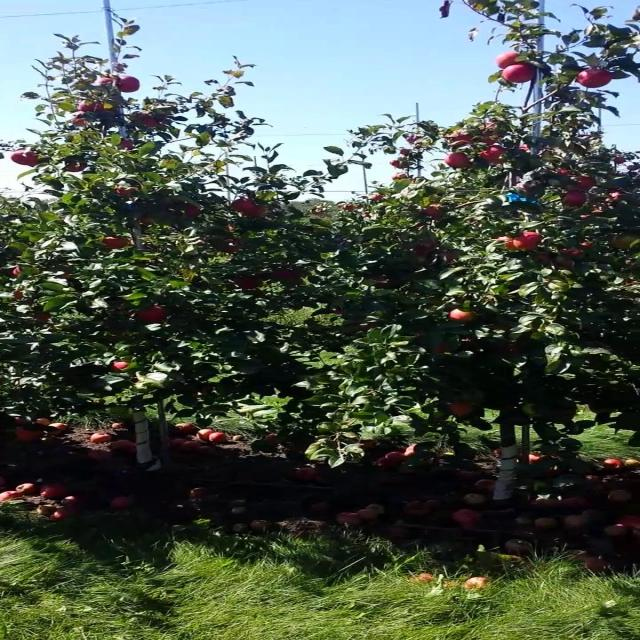apple: (576, 68, 613, 88), (511, 231, 542, 251), (502, 64, 536, 82), (478, 120, 502, 145), (133, 305, 167, 322), (131, 111, 162, 128), (444, 130, 473, 148), (480, 145, 507, 164), (11, 149, 40, 166), (411, 239, 438, 256), (496, 50, 520, 69), (516, 180, 544, 196), (609, 235, 640, 249), (444, 152, 471, 168), (116, 75, 140, 92), (562, 190, 587, 206), (447, 401, 473, 416), (271, 269, 302, 281), (16, 428, 42, 442), (420, 204, 444, 219), (216, 238, 240, 253), (449, 309, 476, 322), (233, 276, 260, 289), (231, 198, 256, 212), (102, 236, 131, 248), (271, 269, 300, 281), (573, 175, 596, 190), (369, 274, 391, 289), (240, 205, 267, 217), (64, 158, 87, 172), (78, 100, 104, 112), (138, 114, 162, 127), (182, 202, 200, 218), (553, 255, 573, 269), (496, 236, 516, 250), (113, 185, 138, 196), (69, 111, 87, 126), (93, 101, 116, 112), (431, 342, 451, 354), (111, 360, 131, 371), (533, 252, 551, 264), (442, 250, 460, 262), (93, 76, 113, 86), (604, 191, 622, 202), (33, 312, 51, 322), (404, 134, 422, 144), (560, 248, 582, 256), (118, 139, 133, 150), (9, 266, 22, 276), (138, 216, 151, 225), (520, 142, 531, 152), (580, 241, 593, 249), (556, 169, 571, 175), (227, 224, 236, 231)
